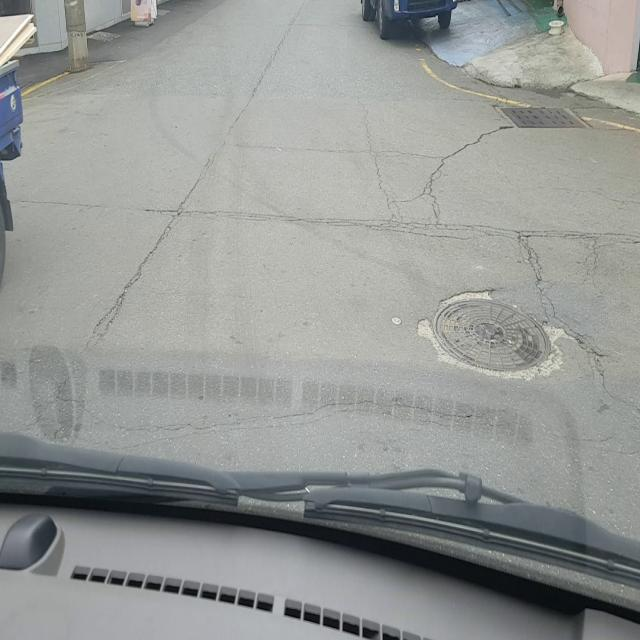Pothole: (413, 286, 584, 384)
